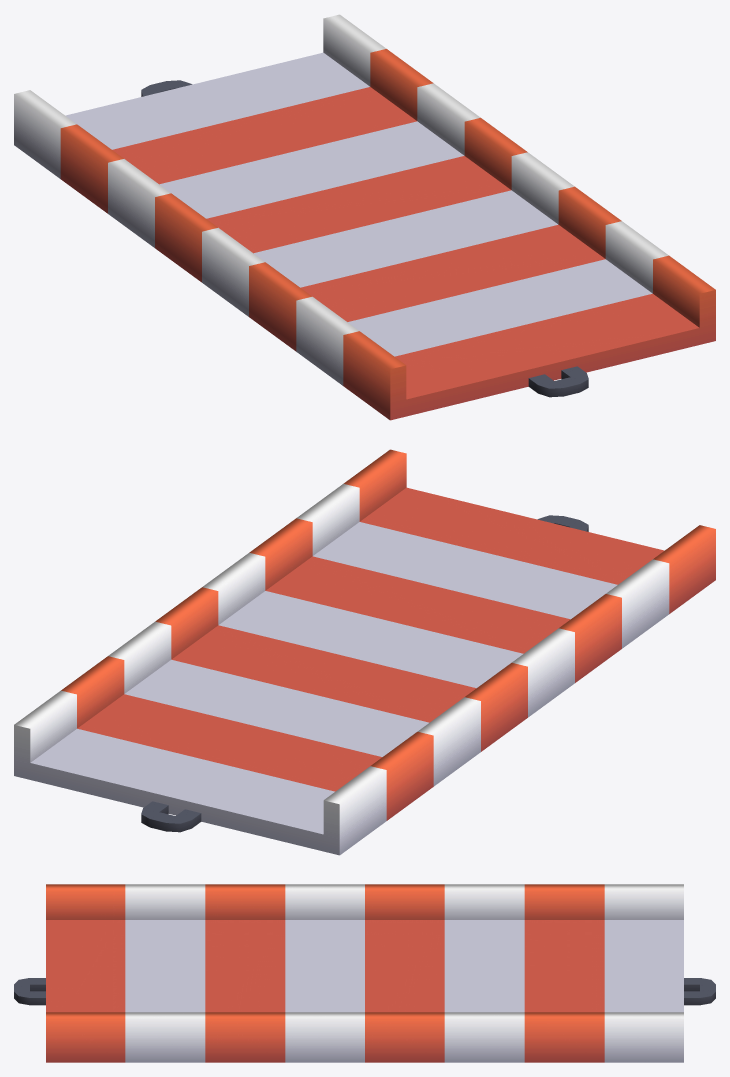
The model's file is track-striped-wide-straight.glb.
3 views of the same model, one above another, from view 1: azimuth 30°, elevation 25°; view 2: azimuth 150°, elevation 25°; view 3: azimuth 270°, elevation 25° (orthographic). The views are drawn at different scales.
Parts seen in each view (by area): view 1: track-striped-wide-straight; view 2: track-striped-wide-straight; view 3: track-striped-wide-straight.
Boxes of the visible parts, box(x1,y1,x2,y2) form: track-striped-wide-straight: box(14, 14, 715, 420); track-striped-wide-straight: box(14, 449, 715, 855); track-striped-wide-straight: box(14, 884, 715, 1062).
Size of the model in its own units: 2 by 0.3 by 4.4.
1 material, 1 textured.
